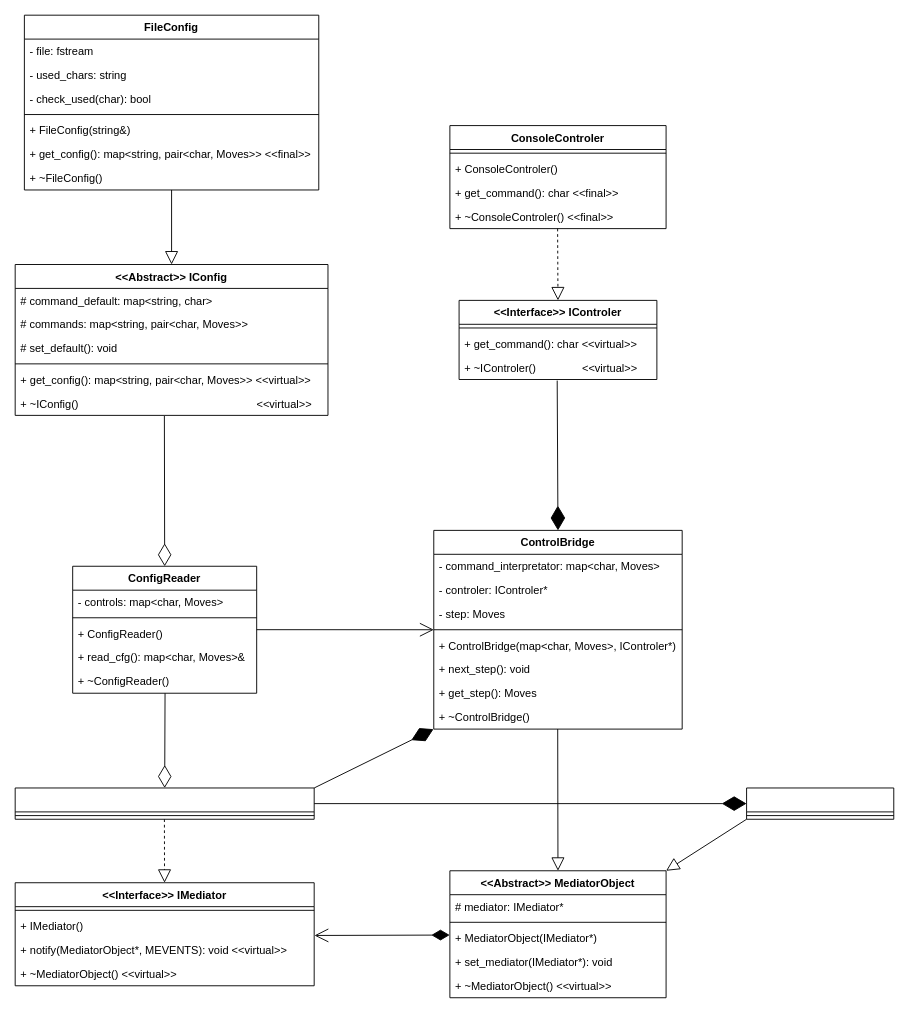
The diagram is 909 pixels wide and 1013 high, and some of its shapes have lost their labels. Here are the shapes that lost their labels. From the top down, the centre of each, then its label:
the point at 164,803: Mediator
the point at 820,803: Game
